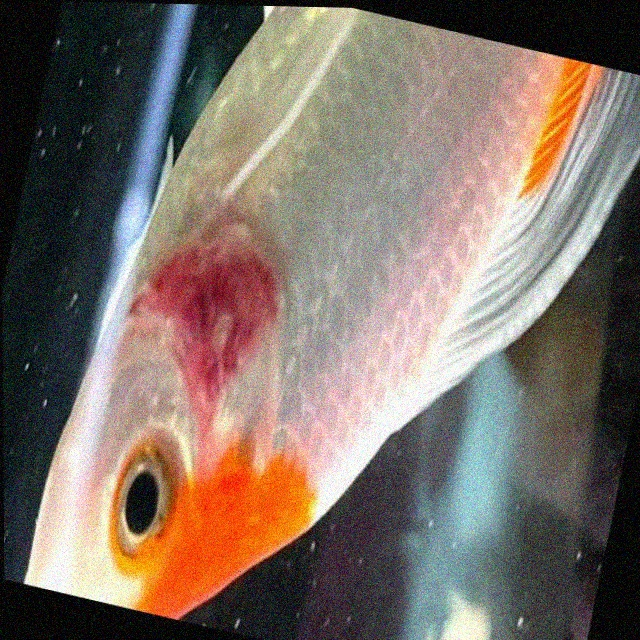Gill Disease: (49, 174, 406, 591)
